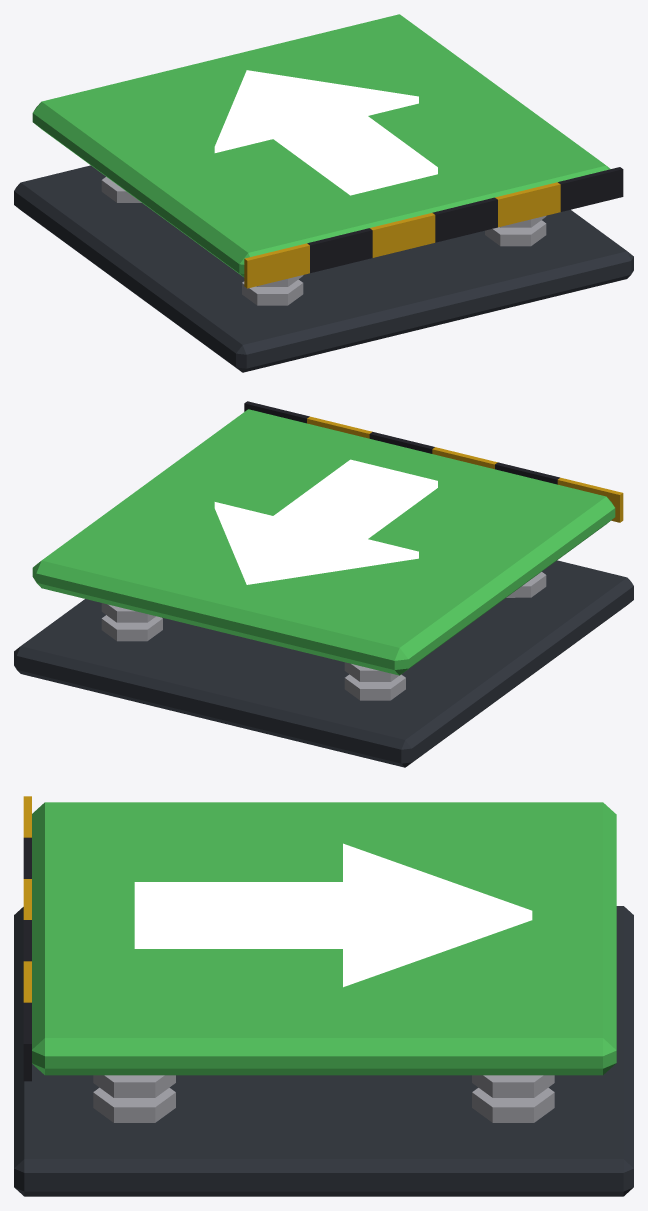
File: jumppad.glb
3 renders of one model, top to bottom at view 1: azimuth 30°, elevation 25°; view 2: azimuth 150°, elevation 25°; view 3: azimuth 270°, elevation 25°, orthographic. The views are drawn at different scales.
Visible parts, largest first — view 1: jumppad; view 2: jumppad; view 3: jumppad.
Boxes of the visible parts, bbox=[...] form: jumppad: bbox=[14, 14, 633, 372]; jumppad: bbox=[14, 401, 633, 767]; jumppad: bbox=[14, 796, 633, 1196].
Bounding box in the file's own units: 1.8 × 0.5101 × 1.8.
